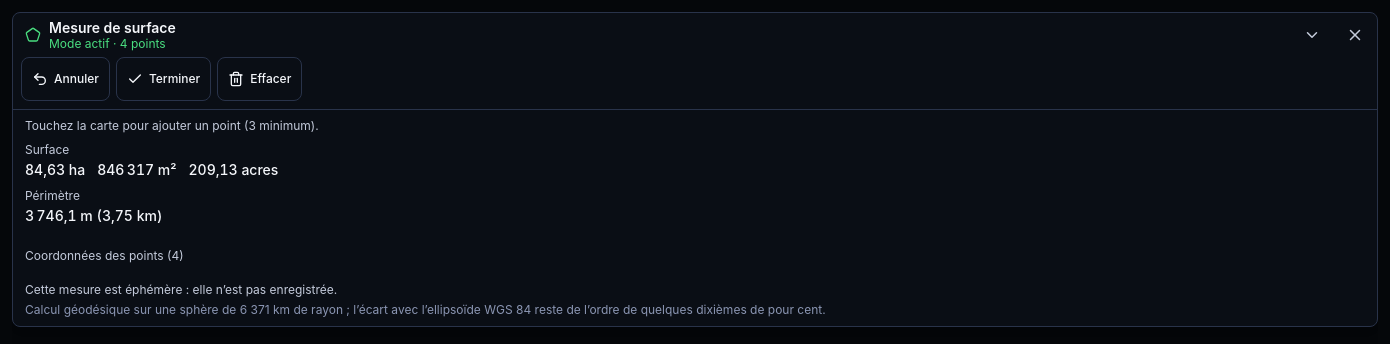
Test: MeasurePanel › folds the results body but keeps the actions reachable
Click the button with aria-label "Réduire les résultats" at (93, 27), box x1=13 y1=13 x2=1333 y2=57
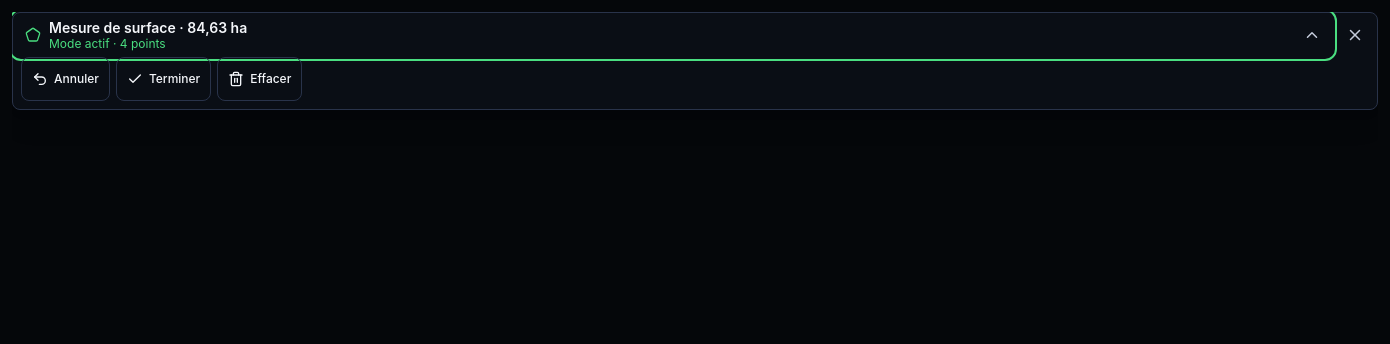
Check: the button "Terminer" is enabled, box x1=116 y1=57 x2=211 y2=101
Check: the element with test id "measure-body" is gone
Check: the heading shows "84,63"
Click the button with aria-label "Agrandir les résultats" at (93, 27), box x1=13 y1=13 x2=1333 y2=57
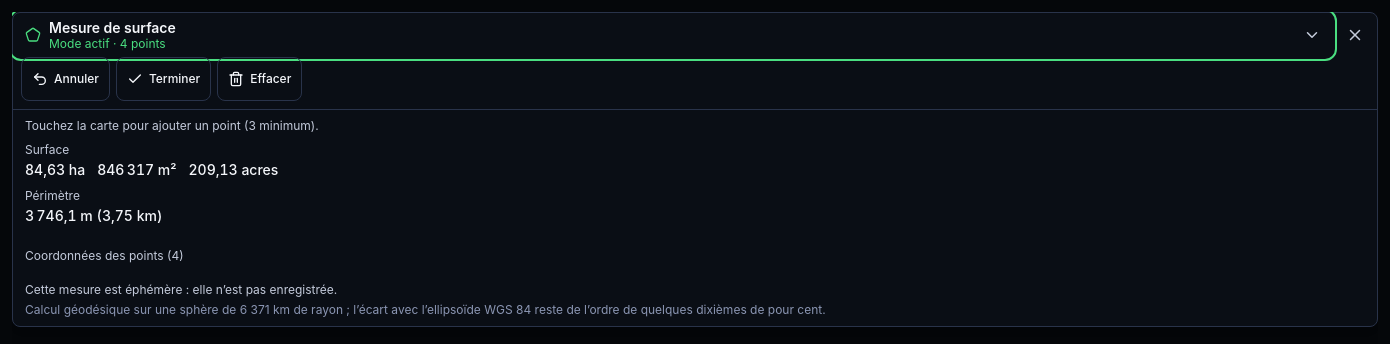
Check: the element with test id "measure-body" is shown
